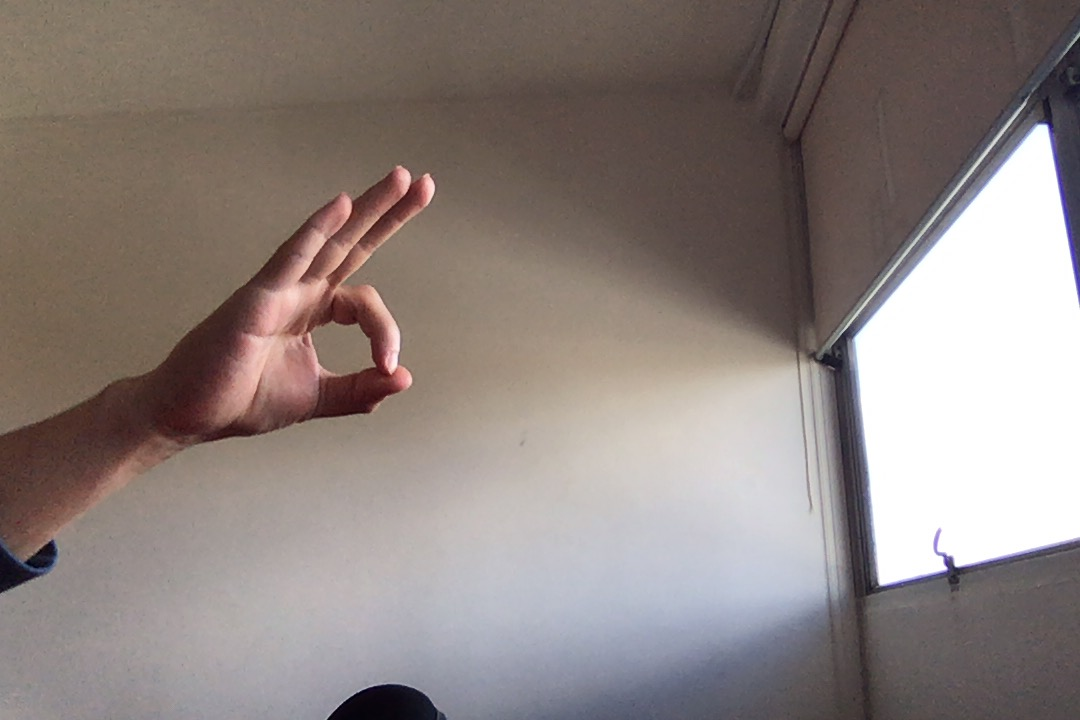oksign: (171, 160, 440, 458)
